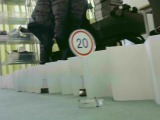speed_20: (67, 29, 96, 58)
